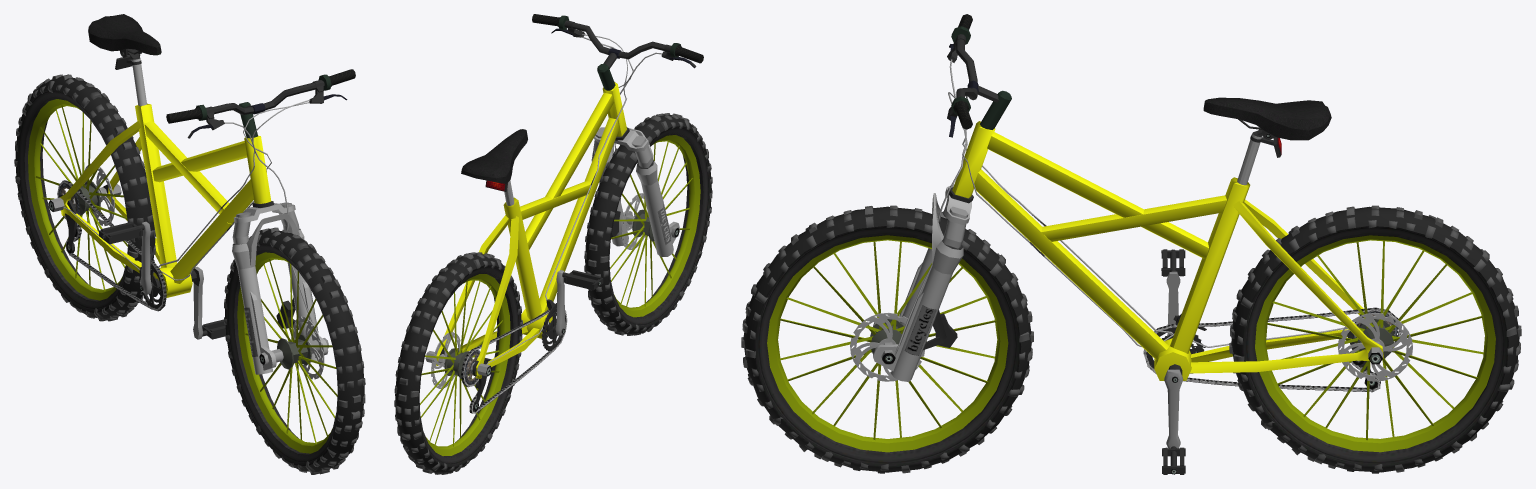
File: Bicycle_1.FBX
3 renders of one model, left to right at view 1: azimuth 30°, elevation 25°; view 2: azimuth 150°, elevation 25°; view 3: azimuth 270°, elevation 25°, orthographic. The views are drawn at different scales.
Parts seen in each view (by area): view 1: Body, Wheel_F, Wheel_B, Steer, Chainset, Pedal_R; view 2: Body, Wheel_B, Wheel_F, Steer, Chainset, Pedal_R; view 3: Wheel_B, Body, Wheel_F, Steer, Chainset.
Part boxes in pixels (bbox=[...]): Body: bbox=[48, 14, 271, 311]; Wheel_F: bbox=[224, 227, 365, 474]; Wheel_B: bbox=[14, 74, 155, 321]; Steer: bbox=[166, 69, 355, 374]; Chainset: bbox=[102, 221, 225, 339]; Pedal_R: bbox=[99, 221, 142, 244]; Body: bbox=[425, 82, 626, 413]; Wheel_B: bbox=[394, 252, 522, 474]; Wheel_F: bbox=[584, 113, 712, 335]; Steer: bbox=[532, 14, 703, 257]; Chainset: bbox=[516, 270, 600, 374]; Pedal_R: bbox=[563, 270, 603, 290]; Wheel_B: bbox=[1229, 205, 1521, 473]; Body: bbox=[952, 97, 1401, 392]; Wheel_F: bbox=[741, 205, 1033, 473]; Steer: bbox=[870, 14, 1011, 381]; Chainset: bbox=[1164, 249, 1182, 474].
Bounding box in the file's own units: 21.98 × 39.79 × 68.79.
4 materials, 2 textured.
